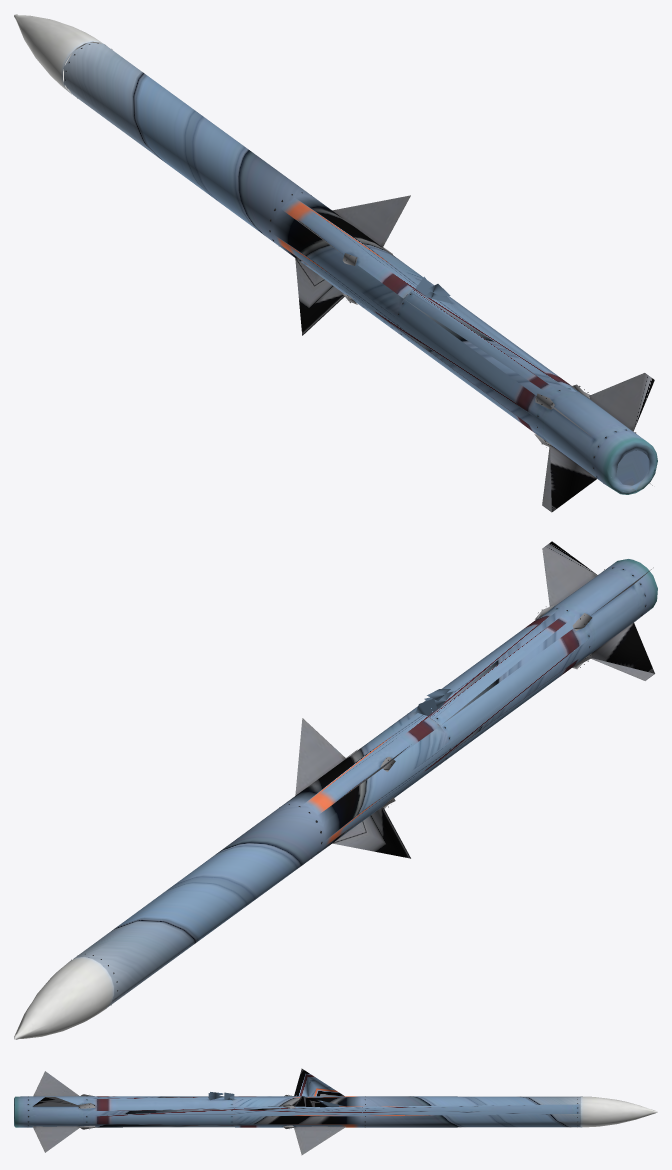
The model's file is msl_amraam_lo.glb.
3 renders of one model, top to bottom at view 1: azimuth 30°, elevation 25°; view 2: azimuth 150°, elevation 25°; view 3: azimuth 270°, elevation 25°, orthographic. The views are drawn at different scales.
Visible parts, largest first — view 1: body|AIM_body, body|AIM_fin, body|AIM_white, body|AIM_body2; view 2: body|AIM_body, body|AIM_fin, body|AIM_white; view 3: body|AIM_body, body|AIM_fin, body|AIM_white, body|AIM_steelF, body|AIM_body2F.
Boxes of the visible parts, x1=… form: body|AIM_body: x1=64, y1=42, x2=657, y2=494; body|AIM_fin: x1=295, y1=195, x2=654, y2=512; body|AIM_white: x1=14, y1=14, x2=103, y2=94; body|AIM_body2: x1=610, y1=444, x2=655, y2=492; body|AIM_body: x1=73, y1=559, x2=657, y2=1006; body|AIM_fin: x1=295, y1=541, x2=654, y2=858; body|AIM_white: x1=14, y1=956, x2=114, y2=1039; body|AIM_body: x1=14, y1=1096, x2=580, y2=1127; body|AIM_fin: x1=32, y1=1068, x2=345, y2=1155; body|AIM_white: x1=580, y1=1096, x2=657, y2=1127; body|AIM_steelF: x1=78, y1=1094, x2=295, y2=1129; body|AIM_body2F: x1=208, y1=1092, x2=234, y2=1100.
Size of the model in its own units: 0.3937 by 0.3937 by 3.86.
Materials: 7 (4 with a texture image).
